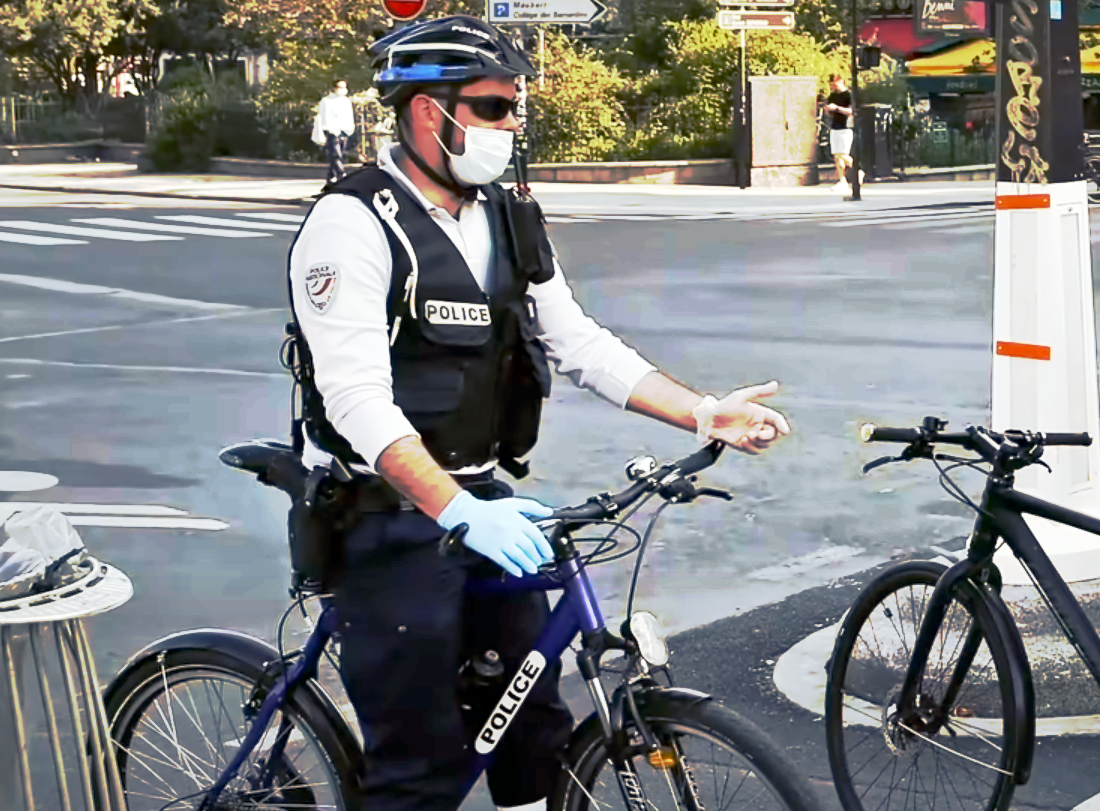mask_weared_incorrect: (382, 22, 526, 196)
